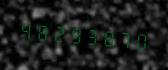eight: (33, 15, 48, 46), (97, 21, 112, 52)
four: (17, 14, 32, 45)
nine: (65, 18, 80, 49)
seven: (113, 22, 128, 53)
three: (81, 19, 96, 51)
two: (49, 17, 64, 48)
zero: (129, 24, 144, 55)
